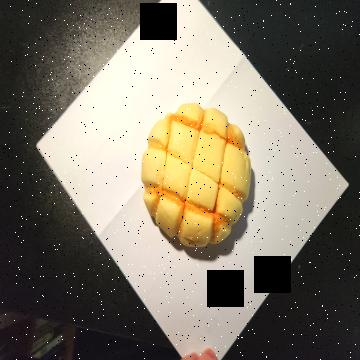melon_bread: (141, 103, 253, 250)
